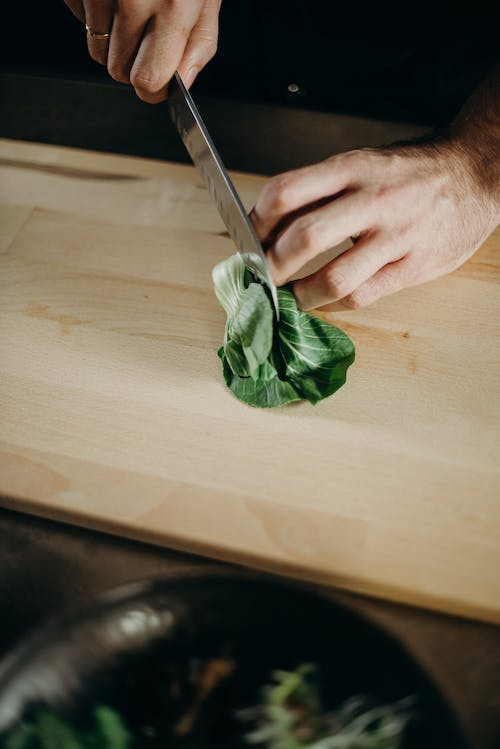knife: (164, 69, 281, 327)
